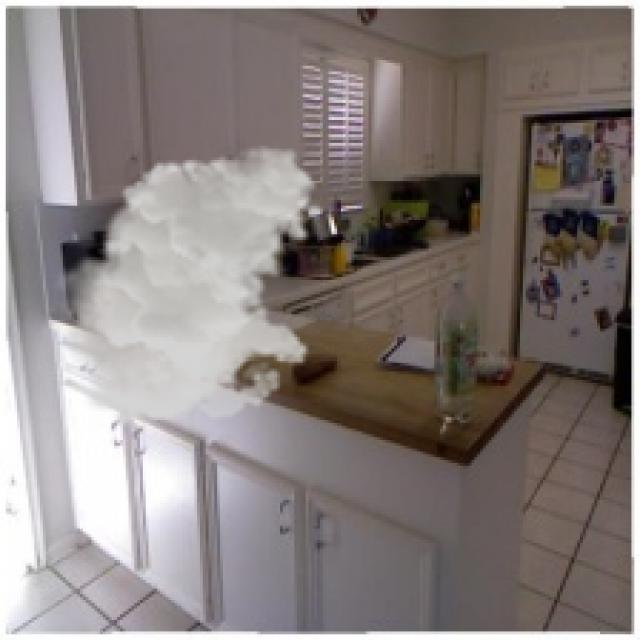smoke: (48, 146, 326, 428)
